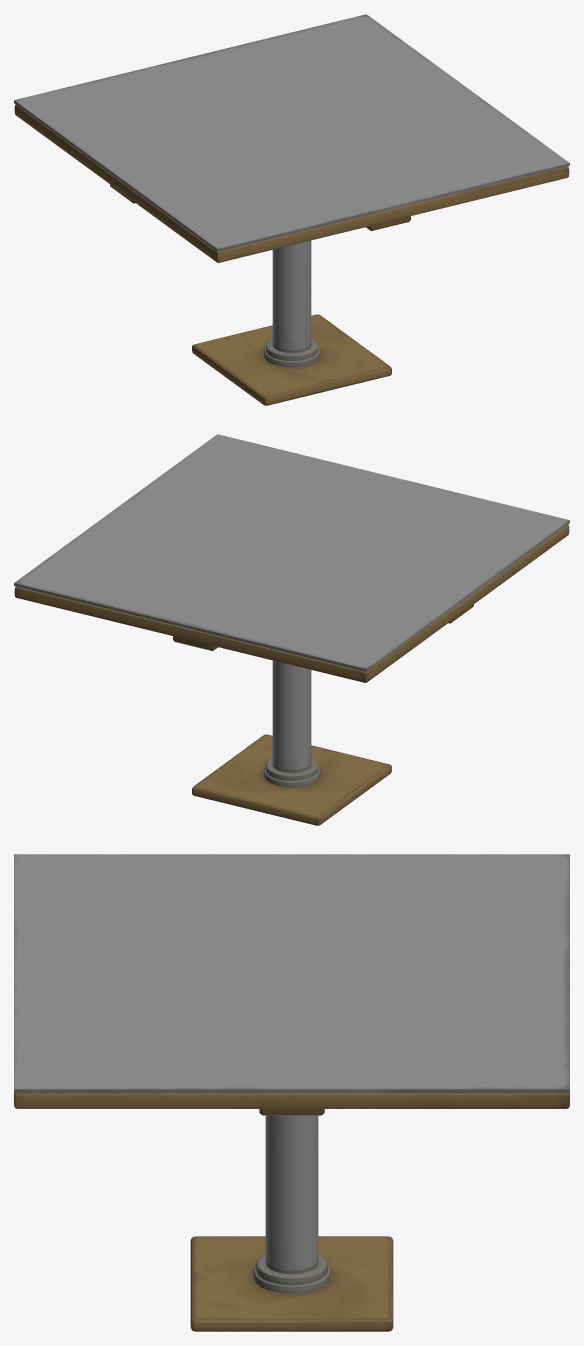
The model's file is SM_Table.fbx.
3 renders of one model, top to bottom at view 1: azimuth 30°, elevation 25°; view 2: azimuth 150°, elevation 25°; view 3: azimuth 270°, elevation 25°, orthographic. The views are drawn at different scales.
Parts seen in each view (by area): view 1: SM_Table_LOD0; view 2: SM_Table_LOD0; view 3: SM_Table_LOD0.
Part boxes in pixels (<box>): SM_Table_LOD0: <box>14,14,569,405</box>; SM_Table_LOD0: <box>14,434,569,825</box>; SM_Table_LOD0: <box>14,854,569,1331</box>.
Bounding box in the file's own units: 100 × 100 × 63.16.
1 material, 1 textured.
